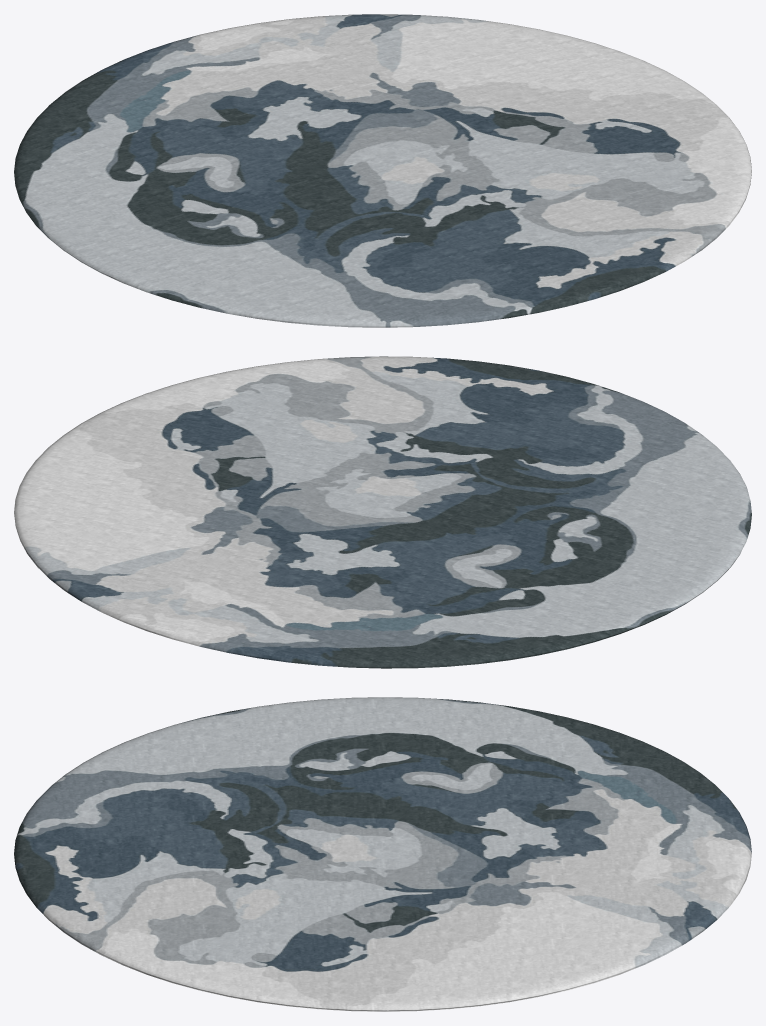
The model's file is licorice.gltf.
The picture shows the model from 3 angles, top to bottom: view 1: azimuth 30°, elevation 25°; view 2: azimuth 150°, elevation 25°; view 3: azimuth 270°, elevation 25°; orthographic projection.
Parts seen in each view (by area): view 1: Licorice; view 2: Licorice; view 3: Licorice.
Part boxes in pixels (box(x1,y1,x2,y2)): Licorice: box(14, 14, 751, 327); Licorice: box(14, 356, 751, 668); Licorice: box(14, 697, 751, 1011).
Bounding box in the file's own units: 1.76 × 0.0324 × 1.75.
Materials: 1 (1 with a texture image).
